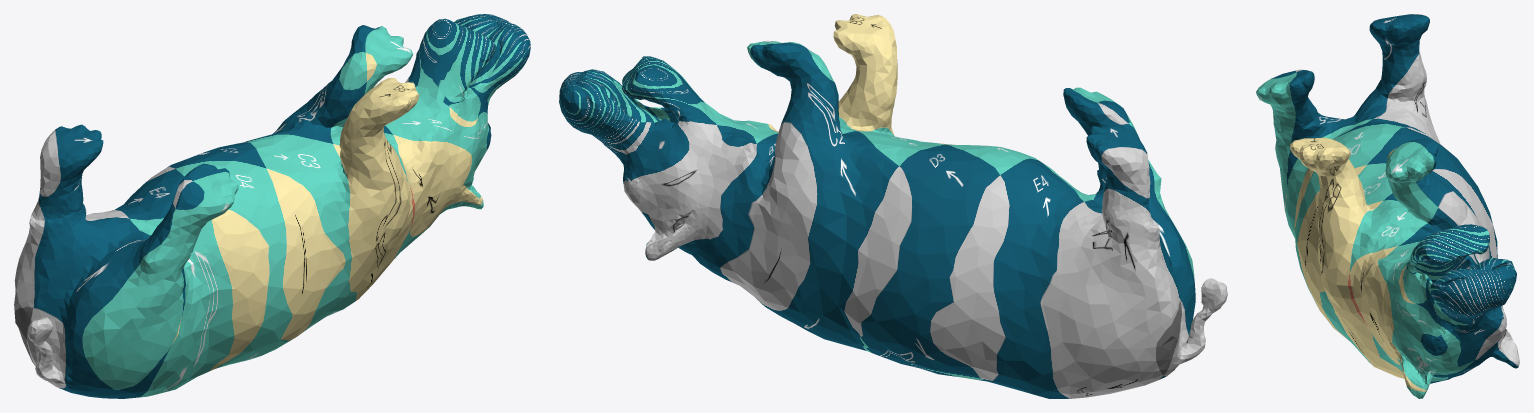
The model's file is lion_02-hippo_01.obj.
3 views of the same model, side by side, from view 1: azimuth 30°, elevation 25°; view 2: azimuth 150°, elevation 25°; view 3: azimuth 270°, elevation 25° (orthographic). The views are drawn at different scales.
Parts seen in each view (by area): view 1: lion_02-hippo_01_export; view 2: lion_02-hippo_01_export; view 3: lion_02-hippo_01_export.
Boxes of the visible parts, x1,y1,x2,y2 form: lion_02-hippo_01_export: (14,14,530,398); lion_02-hippo_01_export: (559,14,1227,398); lion_02-hippo_01_export: (1256,14,1519,398).
Bounding box in the file's own units: 0.982 × 0.4752 × 0.402.
